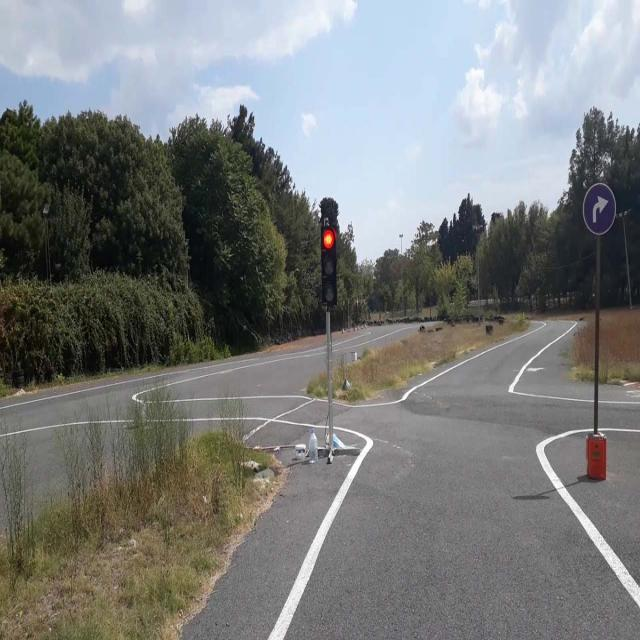kirmizi: (322, 226, 336, 306)
sag: (584, 183, 616, 234)
